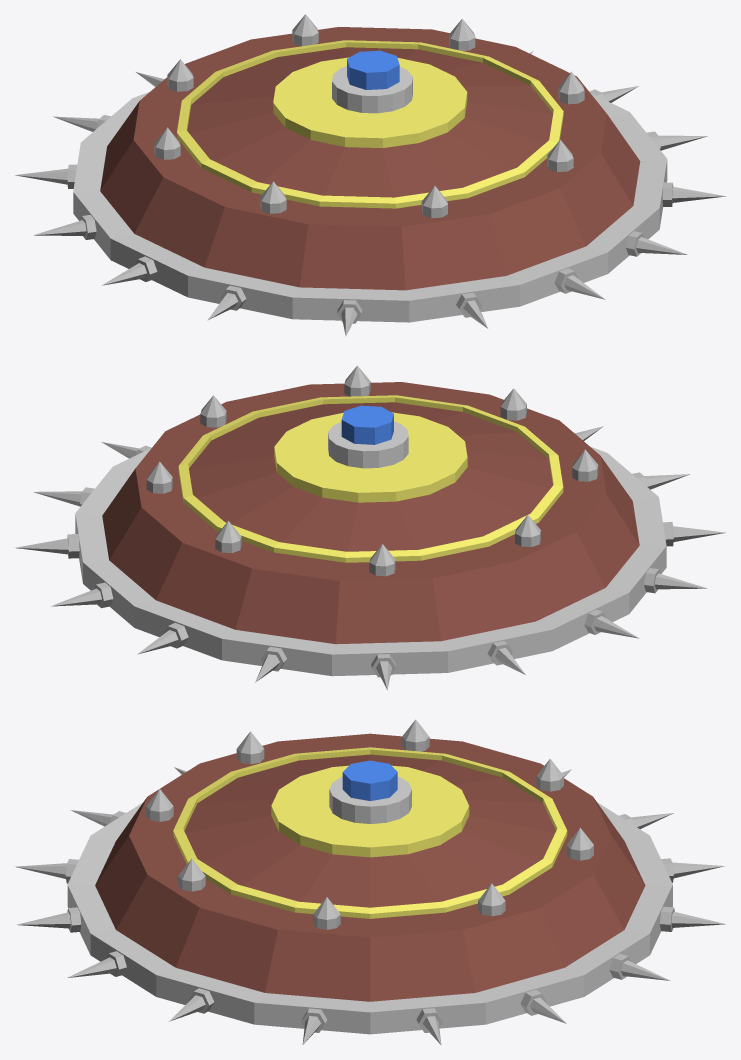
The model's file is Shield_5_e_r.fbx.
3 renders of one model, top to bottom at view 1: azimuth 30°, elevation 25°; view 2: azimuth 150°, elevation 25°; view 3: azimuth 270°, elevation 25°, orthographic.
Visible parts, largest first — view 1: Circle.124, Circle.125, Circle.126, Circle.153, Cone.260, Circle.127, Circle.128, Circle.130, Circle.129, Circle.137, Circle.136, Circle.133 (+3 smaller); view 2: Circle.124, Circle.125, Circle.126, Circle.153, Cone.260, Circle.127, Circle.128, Circle.137, Circle.133, Circle.132, Circle.130, Circle.136 (+3 smaller); view 3: Circle.124, Circle.125, Circle.126, Circle.153, Cone.260, Circle.127, Circle.128, Circle.137, Circle.136, Circle.133, Circle.134, Circle.131 (+3 smaller).
Part boxes in pixels (x1,y1,x2,y2): Circle.124: (100,27,640,290); Circle.125: (73,92,667,322); Circle.126: (273,57,467,147); Circle.153: (177,40,563,208); Cone.260: (14,51,725,336); Circle.127: (332,66,412,113); Circle.128: (347,50,399,89); Circle.130: (167,59,193,91); Circle.129: (154,127,180,159); Circle.137: (260,181,286,213); Circle.136: (421,186,447,218); Circle.133: (558,71,584,104); Circle.124: (102,382,639,644); Circle.125: (75,446,666,676); Circle.126: (274,412,467,502); Circle.153: (178,395,563,562); Cone.260: (14,426,725,690); Circle.127: (328,421,408,468); Circle.128: (341,405,393,444); Circle.137: (572,449,598,481); Circle.133: (200,395,226,427); Circle.132: (146,461,172,493); Circle.130: (369,544,395,576); Circle.136: (500,388,526,420); Circle.124: (95,733,645,1001); Circle.125: (67,802,672,1034); Circle.126: (271,765,469,857); Circle.153: (173,747,567,918); Cone.260: (15,767,725,1044); Circle.127: (329,776,411,823); Circle.128: (342,760,397,800); Circle.137: (236,731,264,764); Circle.136: (146,789,173,821); Circle.133: (313,897,340,929); Circle.134: (178,858,205,891); Circle.131: (566,827,593,860).
Size of the model in its own units: 64.58 by 19.57 by 64.77.
